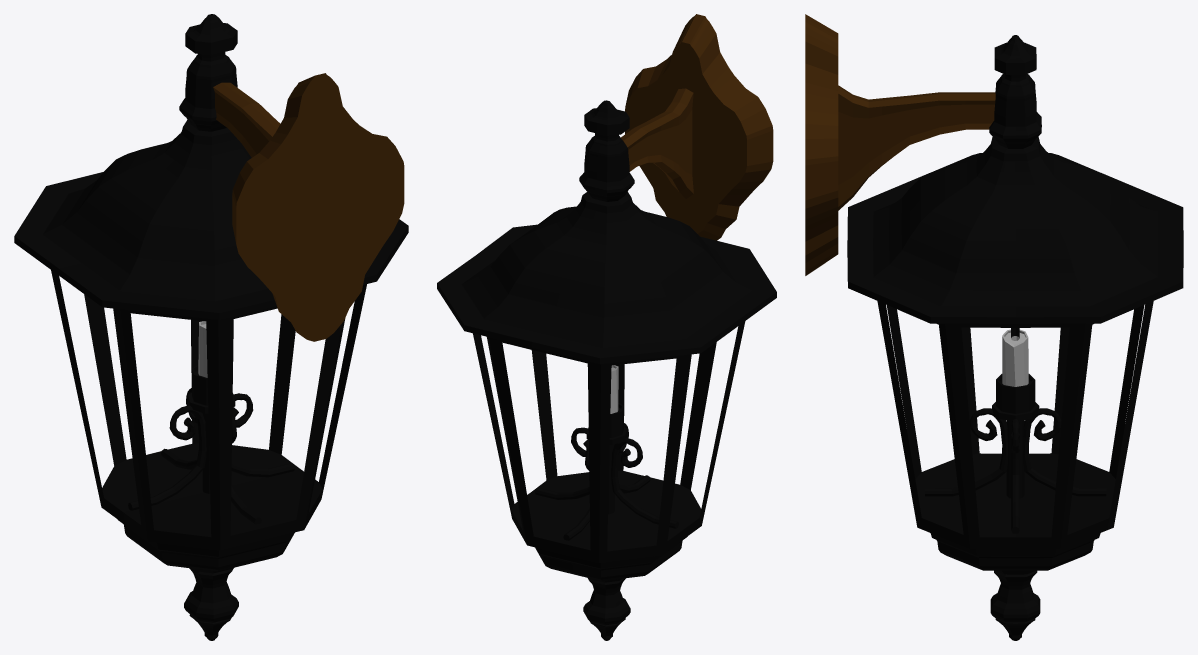
The model's file is lantern.glb.
The picture shows the model from 3 angles, left to right: view 1: azimuth 30°, elevation 25°; view 2: azimuth 150°, elevation 25°; view 3: azimuth 270°, elevation 25°; orthographic projection. The views are drawn at different scales.
Visible parts, largest first — view 1: Cylinder_002; view 2: Cylinder_002; view 3: Cylinder_002.
Part boxes in pixels (box(x1,y1,x2,y2)): Cylinder_002: box(14, 14, 408, 640); Cylinder_002: box(437, 14, 776, 640); Cylinder_002: box(805, 14, 1183, 640).
Bounding box in the file's own units: 33.62 × 67.77 × 37.23.
